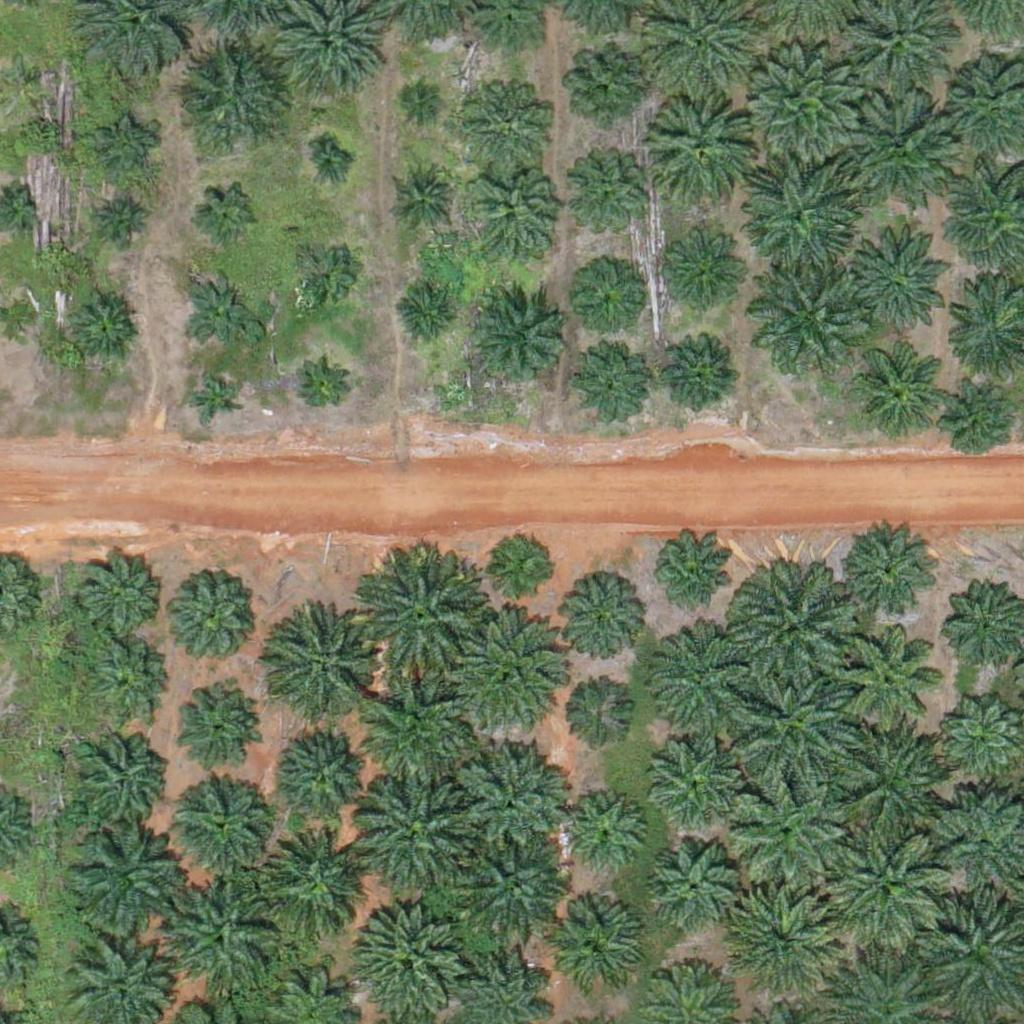Kelapa_Sawit: (830, 825, 955, 951), (729, 565, 854, 691), (359, 560, 484, 686), (733, 659, 858, 784), (723, 887, 836, 1001), (459, 615, 572, 729), (255, 828, 368, 942), (734, 772, 847, 885), (648, 620, 761, 733), (362, 678, 475, 791), (353, 779, 466, 892), (350, 899, 463, 1012), (750, 257, 863, 370), (640, 89, 753, 202), (172, 38, 285, 151), (66, 825, 178, 939), (835, 725, 947, 838), (459, 830, 571, 943), (454, 743, 566, 856), (165, 884, 277, 997), (846, 87, 958, 200), (842, 233, 954, 346), (745, 42, 857, 155), (741, 157, 853, 270), (842, 634, 942, 735), (840, 523, 940, 624), (277, 721, 377, 822), (161, 565, 261, 666), (466, 288, 566, 389), (546, 899, 646, 999), (272, 619, 372, 719), (174, 775, 274, 875), (70, 728, 170, 828), (556, 577, 644, 666), (647, 735, 735, 823), (557, 789, 645, 877), (168, 681, 256, 769), (850, 345, 938, 433), (461, 79, 549, 167), (469, 173, 557, 261), (648, 531, 735, 619), (649, 839, 736, 927), (88, 636, 175, 724), (76, 553, 163, 641), (655, 226, 742, 314), (569, 49, 644, 125), (558, 682, 633, 758), (948, 588, 1023, 664), (946, 705, 1021, 781), (663, 342, 738, 418), (571, 164, 646, 240), (574, 346, 649, 422), (66, 290, 141, 365), (182, 272, 257, 347), (571, 269, 634, 332), (395, 287, 458, 350), (492, 534, 555, 597), (290, 242, 353, 305), (945, 386, 1008, 449), (94, 115, 156, 178), (198, 184, 260, 247), (296, 364, 346, 415), (100, 193, 150, 244), (189, 373, 239, 424), (398, 172, 448, 222), (406, 83, 444, 121), (311, 145, 348, 183)
